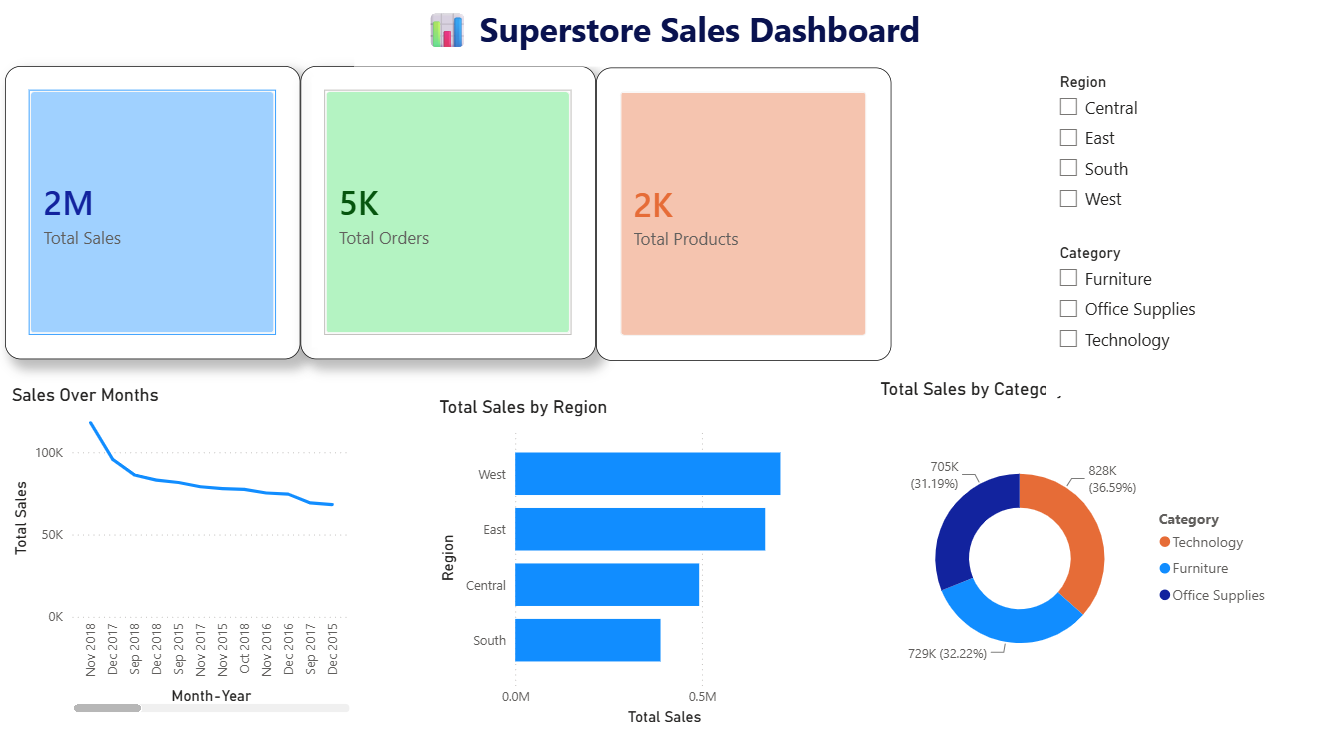

What the dashboard file says about the page in this screenshot:
{"tool":"powerbi","page":{"name":"Page 1","canvas":[1280,720],"ordinal":0},"visuals":[{"type":"cardVisual","fields":{"Data":["superstore_final_dataset (1).Total Sales"]},"box":[7.9,63.2,281.1,279.5],"z":0},{"type":"cardVisual","fields":{"Data":["superstore_final_dataset (1).Total Orders"]},"box":[290.5,63.2,281.1,279.5],"z":1},{"type":"cardVisual","fields":{"Data":["superstore_final_dataset (1).Total Products"]},"box":[571.6,64.7,281.1,279.5],"z":2},{"type":"lineChart","title":"Sales Over Months","fields":{"Y":["superstore_final_dataset (1).Total Sales"],"Category":["superstore_final_dataset (1).Month-Year"]},"box":[9.5,366.3,331.6,317.4],"z":3},{"type":"clusteredBarChart","fields":{"Category":["superstore_final_dataset (1).Region"],"Y":["superstore_final_dataset (1).Total Sales"]},"box":[416.8,377.4,380.5,317.4],"z":4},{"type":"donutChart","fields":{"Category":["superstore_final_dataset (1).Category"],"Y":["superstore_final_dataset (1).Total Sales"]},"box":[836.9,360,385.3,323.7],"z":5},{"type":"slicer","fields":{"Values":["superstore_final_dataset (1).Region"]},"box":[999.5,64.7,281.1,150],"z":6},{"type":"slicer","fields":{"Values":["superstore_final_dataset (1).Category"]},"box":[999.5,227.4,281.1,150],"z":7},{"type":"textbox","box":[341.1,0,636.3,63.2],"z":8}]}

Visuals, with their boxes in screenshot pixels (x1, y1, x2, y2), scaled from the page's 1280x720 canvas onto the 1340x753 screenshot:
cardVisual - superstore_final_dataset (1).Total Sales: 8:66:303:358
cardVisual - superstore_final_dataset (1).Total Orders: 304:66:598:358
cardVisual - superstore_final_dataset (1).Total Products: 598:68:893:360
"Sales Over Months" lineChart: 10:383:357:715
clusteredBarChart - superstore_final_dataset (1).Region x superstore_final_dataset (1).Total Sales: 436:395:835:727
donutChart - superstore_final_dataset (1).Category x superstore_final_dataset (1).Total Sales: 876:376:1279:715
slicer - superstore_final_dataset (1).Region: 1046:68:1339:225
slicer - superstore_final_dataset (1).Category: 1046:238:1339:395
textbox: 357:0:1023:66
